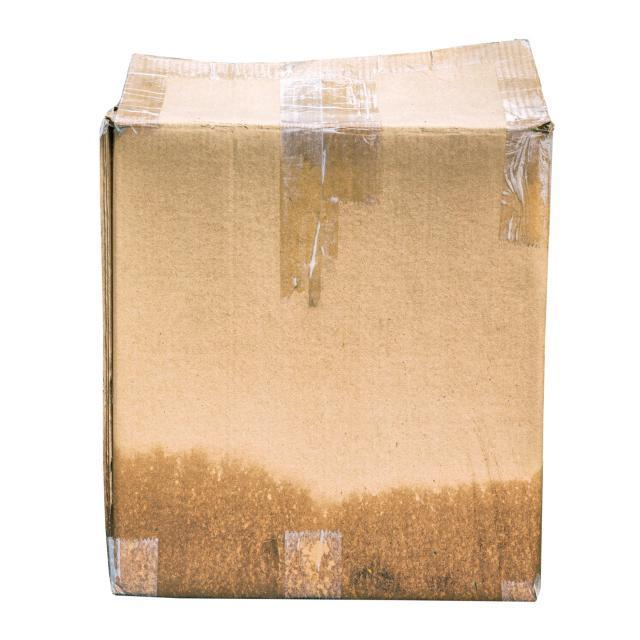wet: (107, 416, 538, 608)
